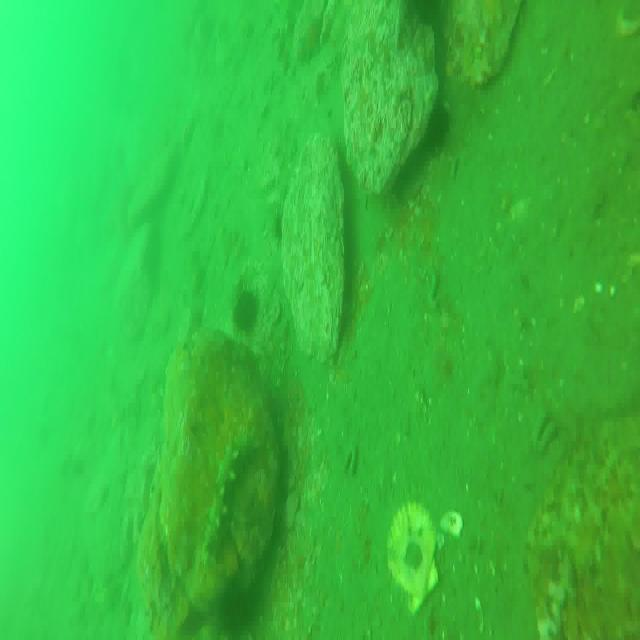echinus: (231, 288, 256, 336)
scallop: (387, 500, 438, 613)
